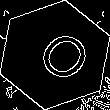O_SW: (21, 22, 89, 88)
